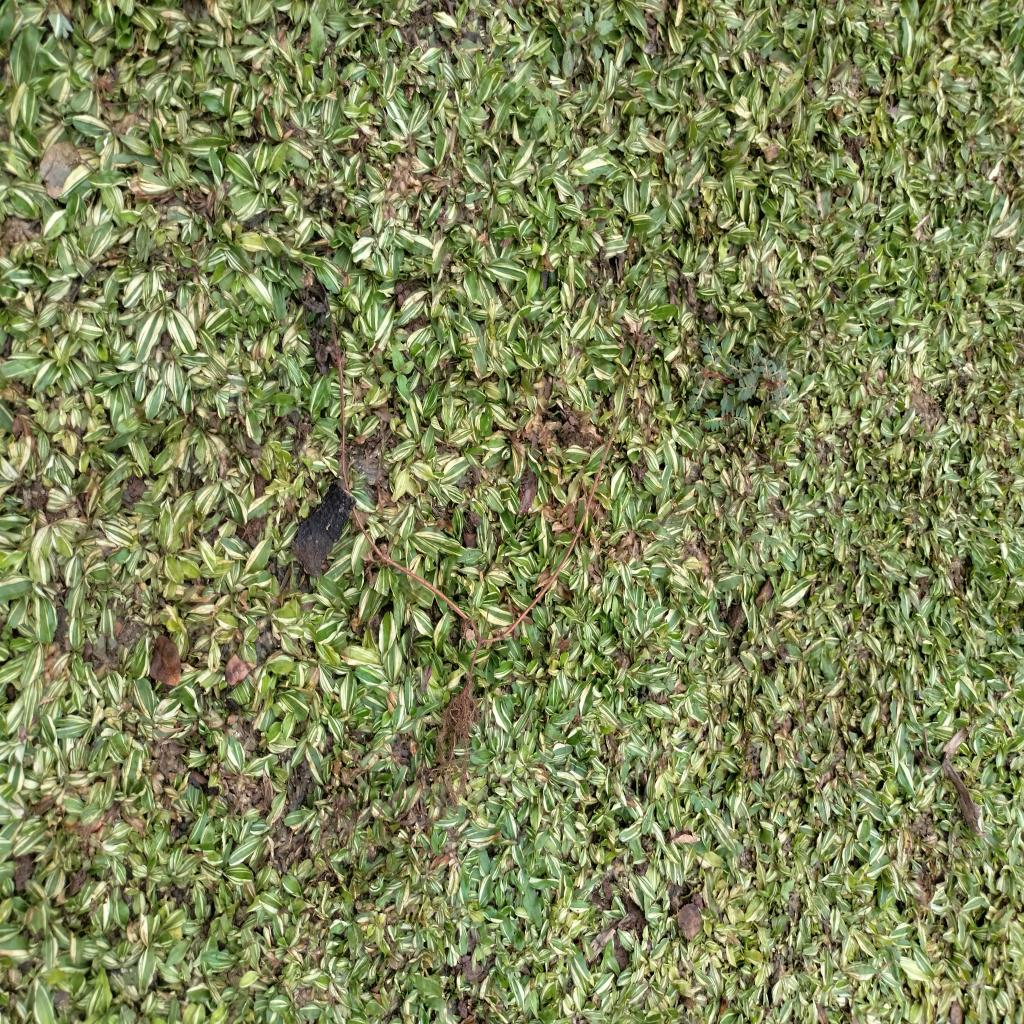buah daun: (686, 322, 797, 436)
tunggang besar: (523, 77, 563, 144), (380, 341, 419, 399)
tunggang tengah: (686, 783, 713, 815)
ungu tunggang: (557, 5, 616, 79)
